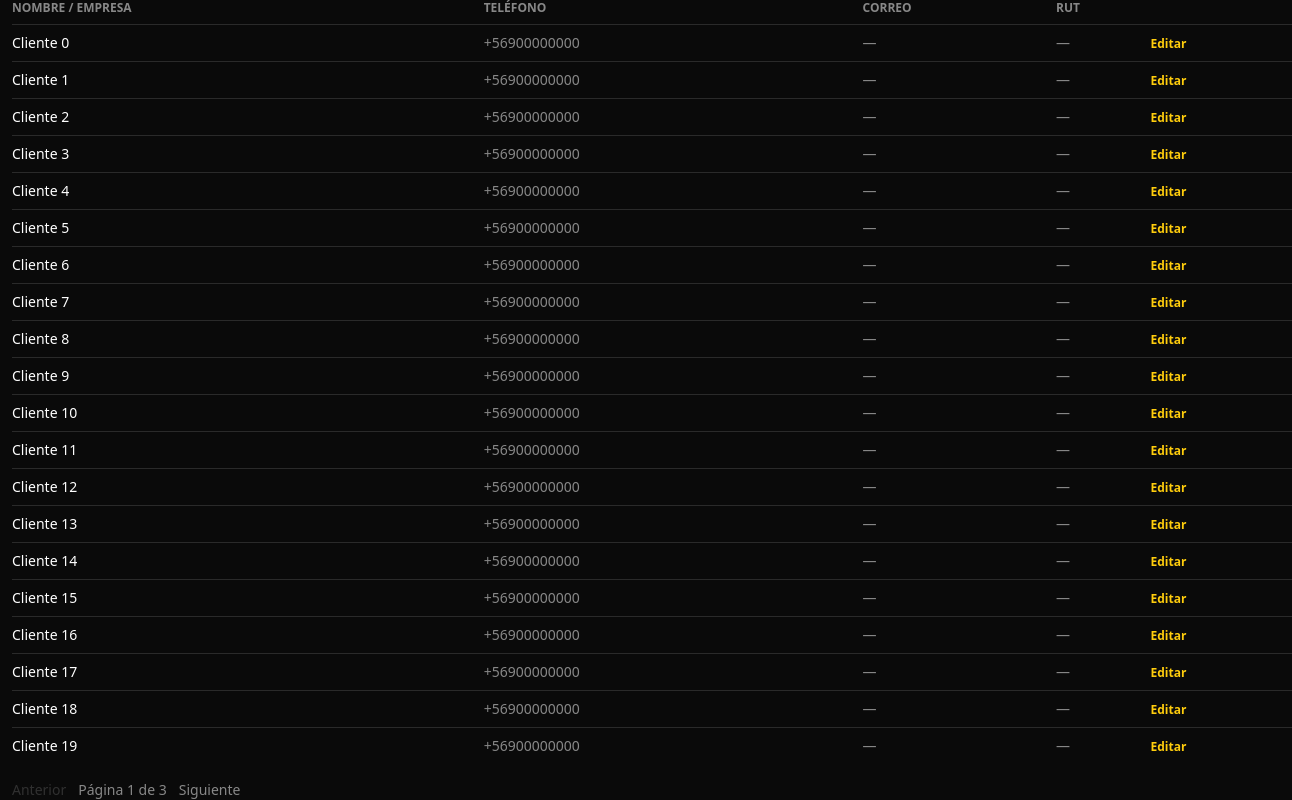
ClientsPage › paginado: "Anterior" deshabilitado en la primera página, "Siguiente" navega a offset 20
The image size is (1292, 800).
(page scrolled)
Expected: the text "Cliente 0" is shown, [12, 24, 484, 62]
Expected: the button "Anterior" is disabled, [12, 780, 66, 799]
What coordinates should you click on to do the following:
click the button "Siguiente"
I would click on:
 (210, 790)
Its box is [179, 780, 240, 799].
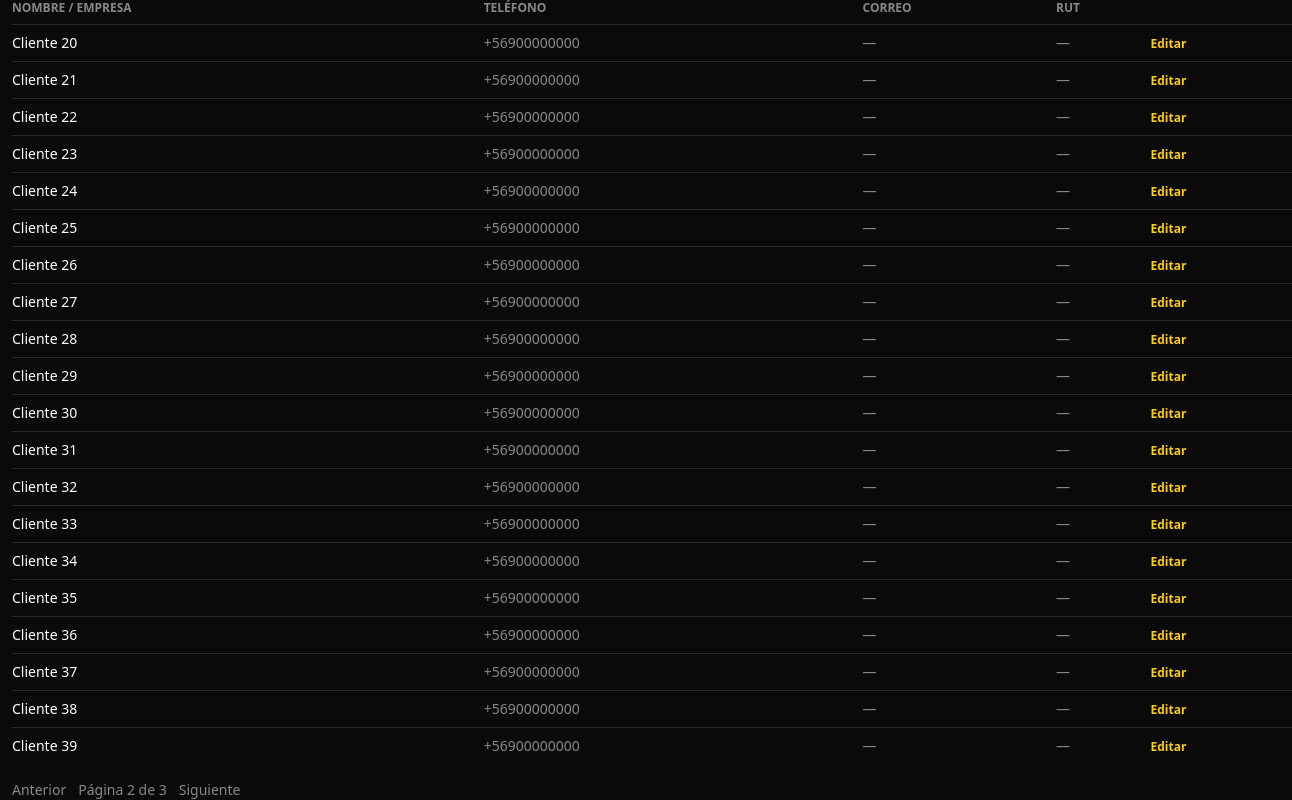
Expected: the text "Cliente 20" is shown, [12, 24, 484, 62]
Expected: the button "Anterior" is enabled, [12, 780, 66, 799]
